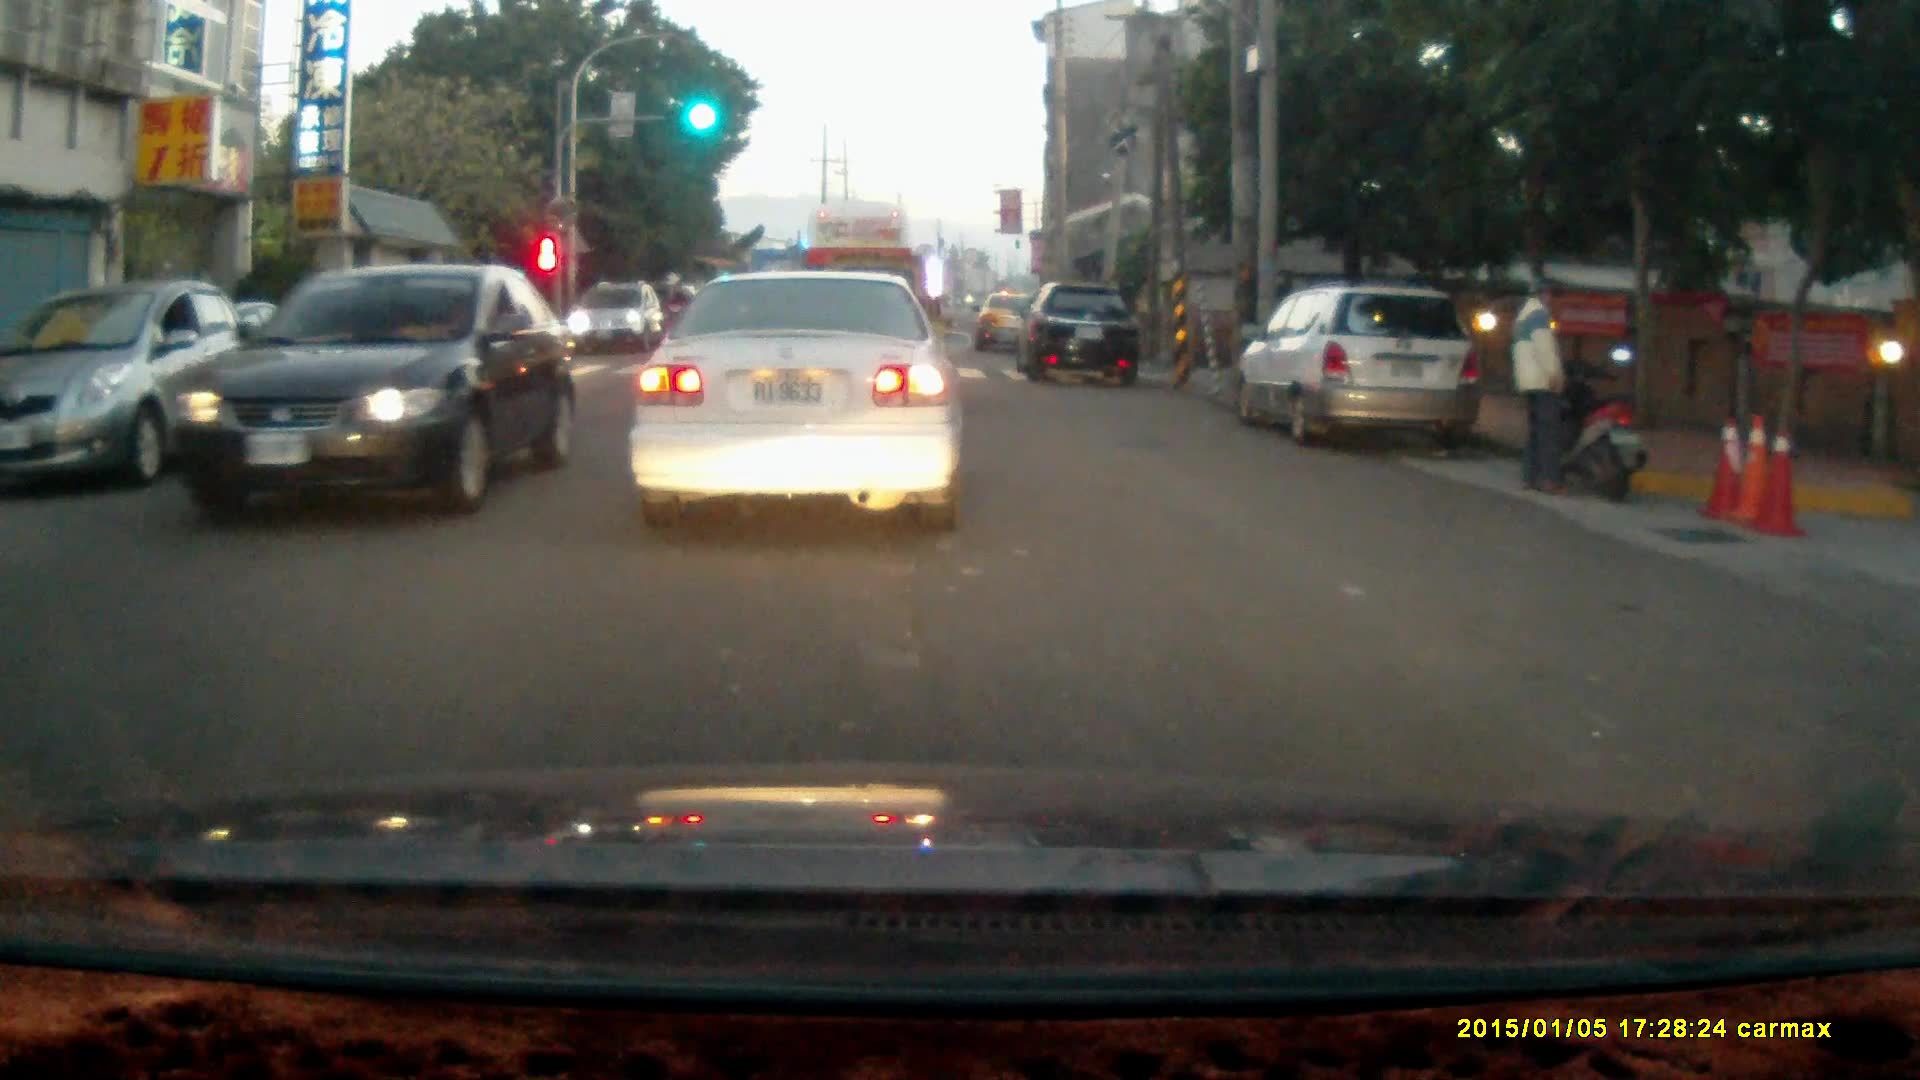pedestrian: (1509, 275, 1575, 500)
vehicle: (160, 265, 578, 528), (628, 273, 963, 536), (1, 282, 260, 495), (1248, 291, 1484, 459), (803, 204, 922, 377), (1020, 280, 1151, 387), (573, 281, 666, 354)
